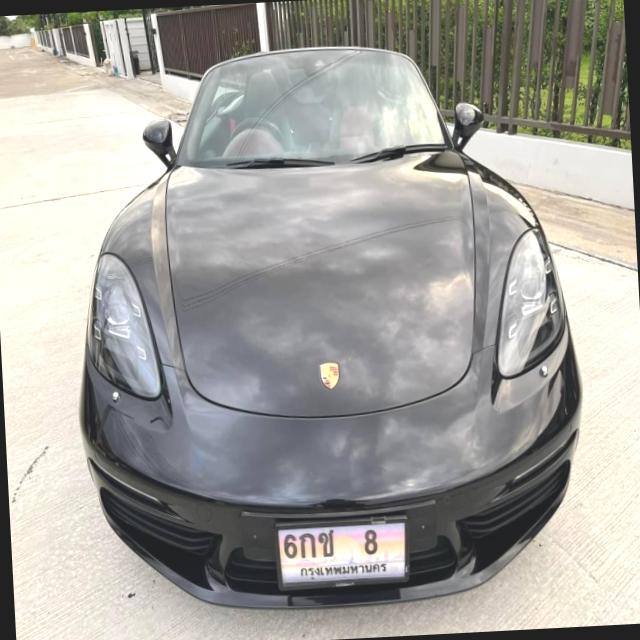license_plate: (262, 501, 421, 602)
